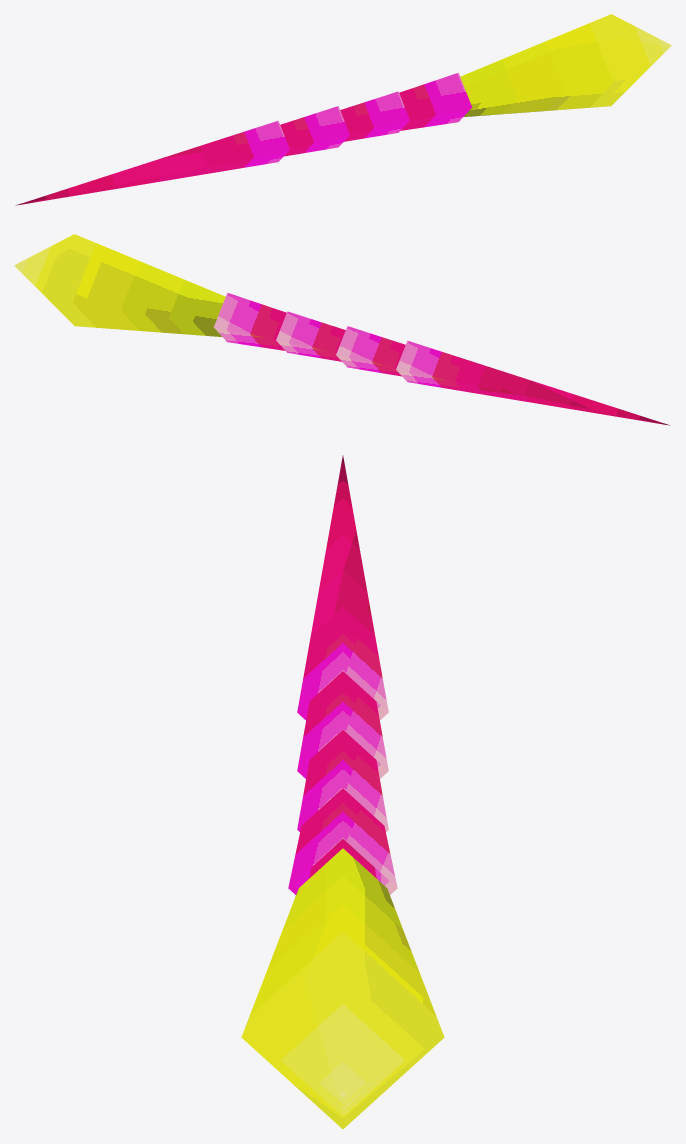
File: Bullet.obj
3 views of the same model, one above another, from view 1: azimuth 30°, elevation 25°; view 2: azimuth 150°, elevation 25°; view 3: azimuth 270°, elevation 25° (orthographic). The views are drawn at different scales.
Bounding box in the file's own units: 26.31 × 3.52 × 3.52.
1 material, 1 textured.
